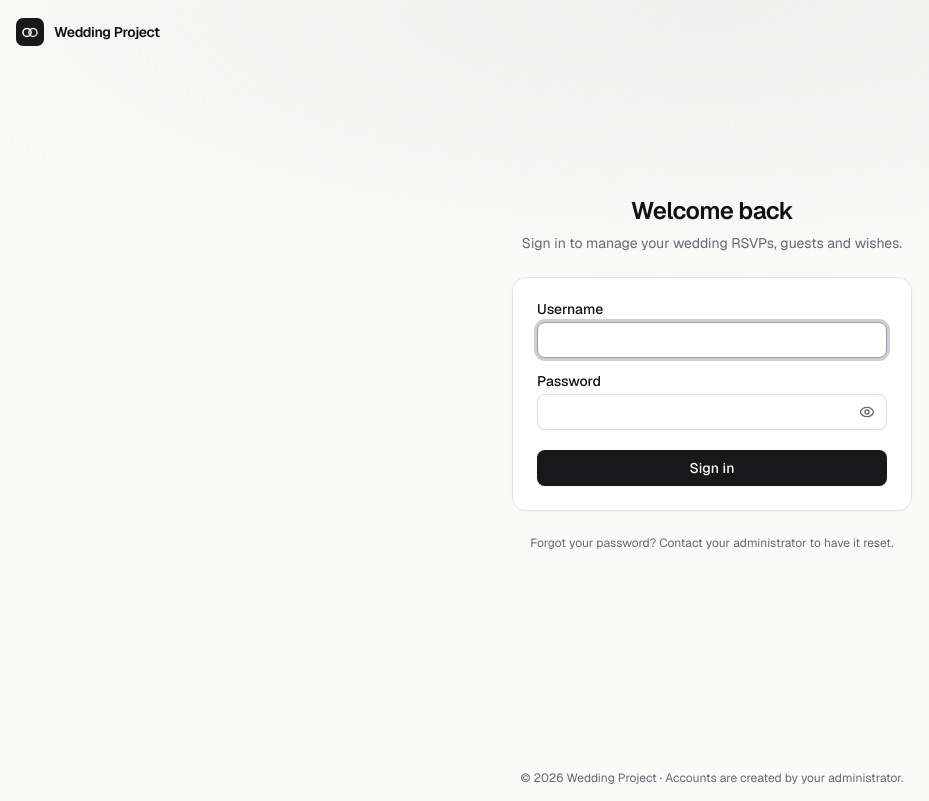
Test: Login › sends users with a temporary password to /setup-password
The width and height of the screenshot is (929, 801).
Type "luqman" into the field labelled "Username" at (712, 340), box top-left (537, 322), bottom-right (887, 358)
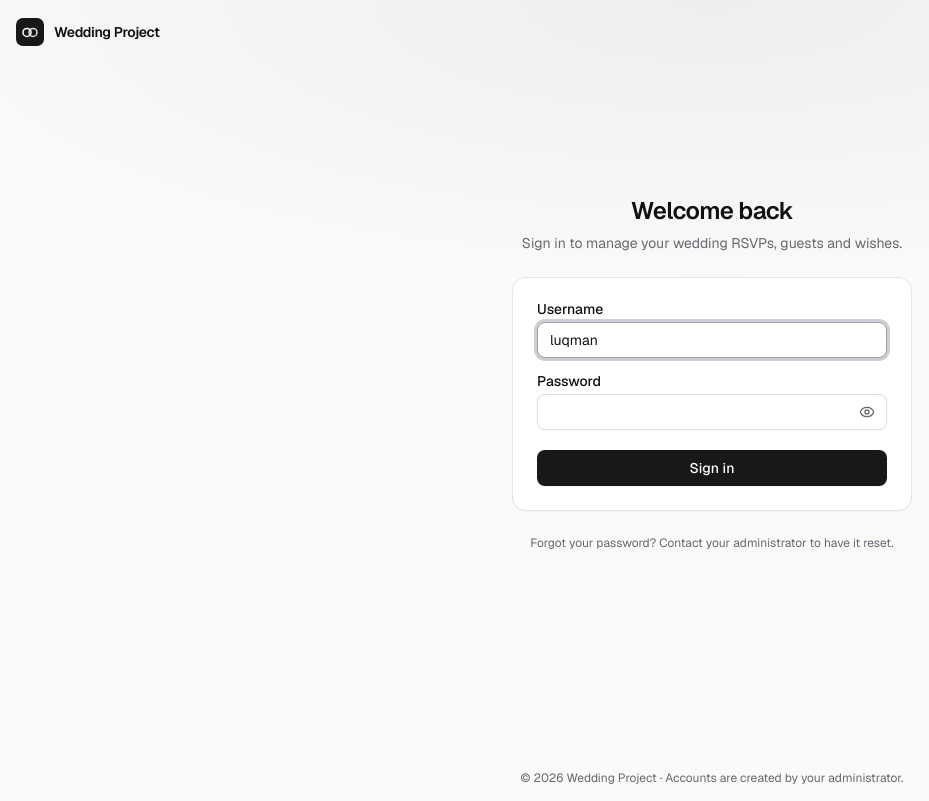
Type "abacus-ladder-mosaic" into the password field labelled "Password" at (712, 412), box top-left (537, 394), bottom-right (887, 430)
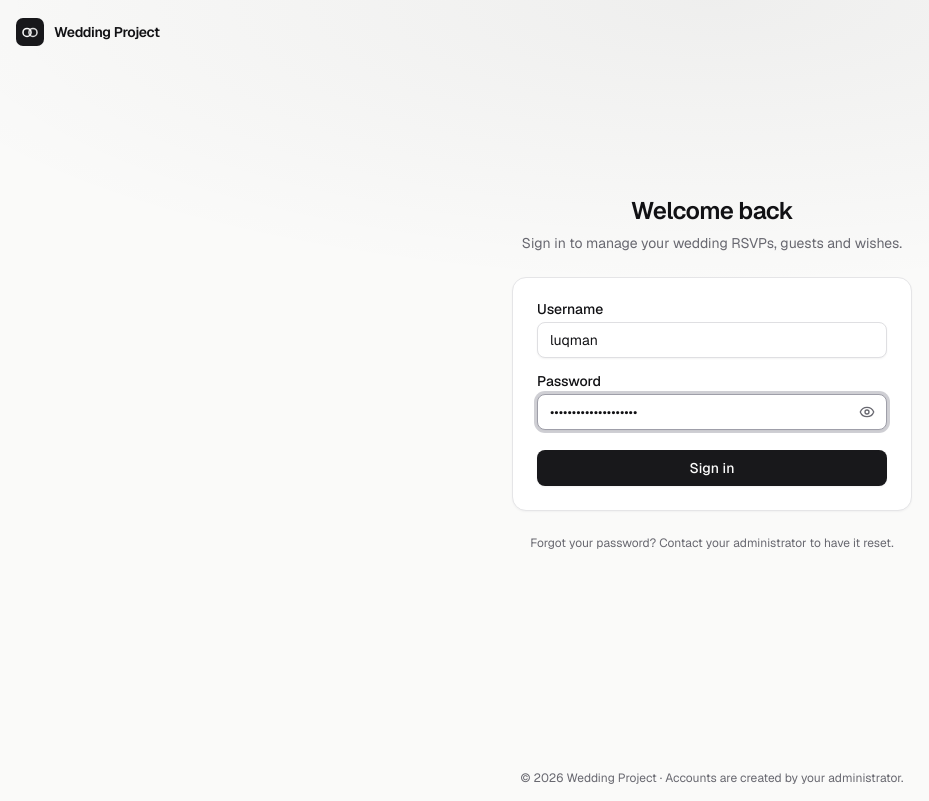
Click the button "Sign in" at (712, 468), box top-left (537, 450), bottom-right (887, 486)
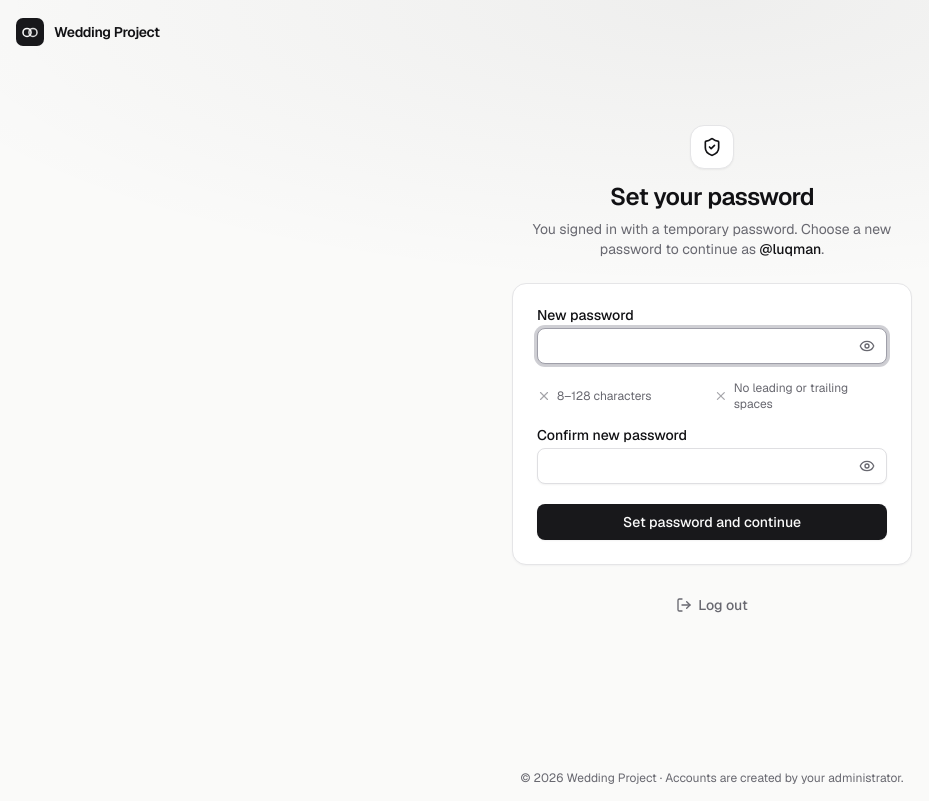
Expected: the heading "Set your password" is shown, top-left (610, 181), bottom-right (814, 212)
